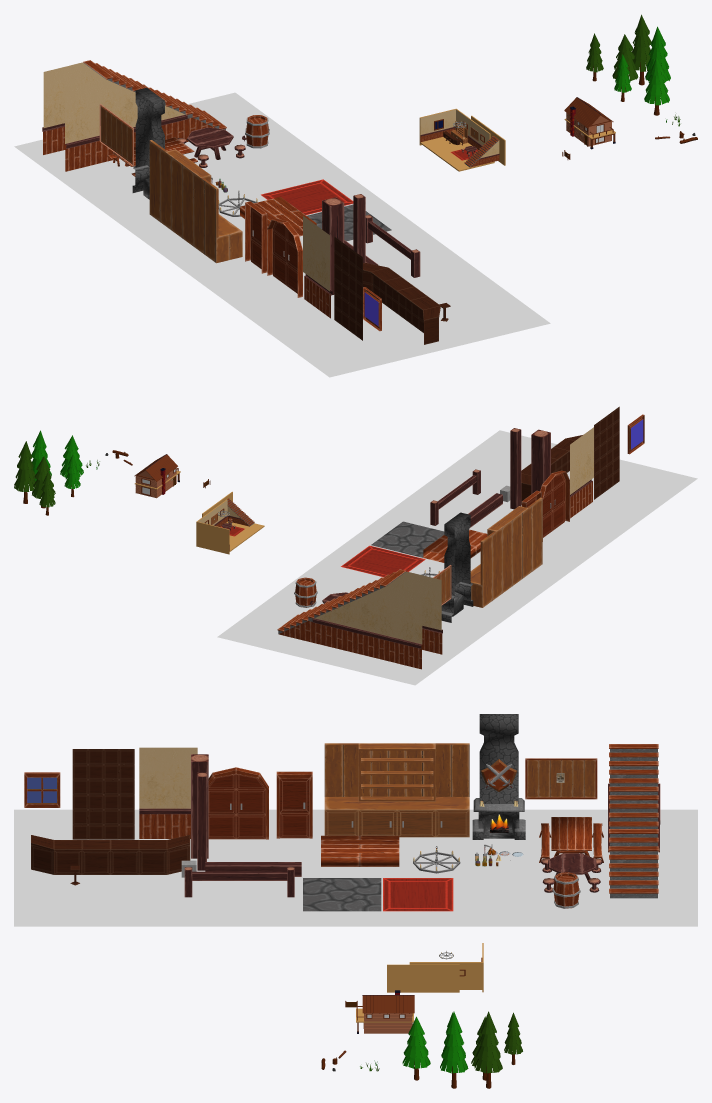
Rendered from CABINDone.fbx.
3 renders of one model, top to bottom at view 1: azimuth 30°, elevation 25°; view 2: azimuth 150°, elevation 25°; view 3: azimuth 270°, elevation 25°, orthographic. The views are drawn at different scales.
Parts seen in each view (by area): view 1: Plane.006, Escaleras.002, BaseCube.003, BarraBar.002, Plane.005, ChimeneaMK1.002, Wall1.022, PuertaDoble.002, Carpetlong.001, Puerta.007, Ventana.006, Mesa2.003 (+11 smaller); view 2: Plane.006, Escaleras.002, BaseCube.003, ChimeneaMK1.002, Plane.005, Wall1.022, PuertaDoble.002, Carpetlong.001, Plane, Viga.005, BarraBar.002, Escaleras.001 (+9 smaller); view 3: Plane.006, BaseCube.003, Escaleras.002, Plane.005, BarraBar.002, Wall1.022, ChimeneaMK1.002, PuertaDoble.002, Ventana.006, Plane, SueloTablas.001, Puerta.007 (+17 smaller).
Part boxes in pixels (box(x1,y1,x2,y2)): Plane.006: box(14, 92, 550, 377); Escaleras.002: box(42, 60, 226, 171); BaseCube.003: box(149, 140, 242, 263); BarraBar.002: box(363, 263, 440, 344); Plane.005: box(334, 236, 362, 340); ChimeneaMK1.002: box(132, 87, 164, 199); Wall1.022: box(303, 216, 332, 318); PuertaDoble.002: box(267, 218, 302, 297); Carpetlong.001: box(261, 179, 353, 214); Puerta.007: box(245, 201, 267, 273); Ventana.006: box(99, 104, 133, 165); Mesa2.003: box(177, 127, 245, 167); Plane.006: box(217, 430, 697, 685); Escaleras.002: box(277, 569, 442, 669); BaseCube.003: box(470, 497, 542, 607); ChimeneaMK1.002: box(441, 512, 473, 622); Plane.005: box(594, 406, 619, 499); Wall1.022: box(570, 427, 593, 518); PuertaDoble.002: box(540, 470, 569, 541); Carpetlong.001: box(341, 545, 425, 577); Plane: box(371, 521, 444, 557); Viga.005: box(531, 429, 550, 493); BarraBar.002: box(521, 435, 582, 504); Escaleras.001: box(510, 428, 521, 509); Plane.006: box(14, 809, 697, 926); BaseCube.003: box(324, 743, 469, 837); Escaleras.002: box(608, 744, 660, 898); Plane.005: box(72, 749, 134, 839); BarraBar.002: box(31, 835, 190, 874); Wall1.022: box(139, 747, 197, 838); ChimeneaMK1.002: box(472, 714, 525, 839); PuertaDoble.002: box(208, 767, 268, 839); Ventana.006: box(525, 758, 597, 799); Plane: box(303, 878, 381, 911); SueloTablas.001: box(321, 835, 399, 866); Puerta.007: box(276, 771, 312, 838).
Bounding box in the file's own units: 2870 × 547 × 2891.
Materials: 46 (26 with a texture image).
